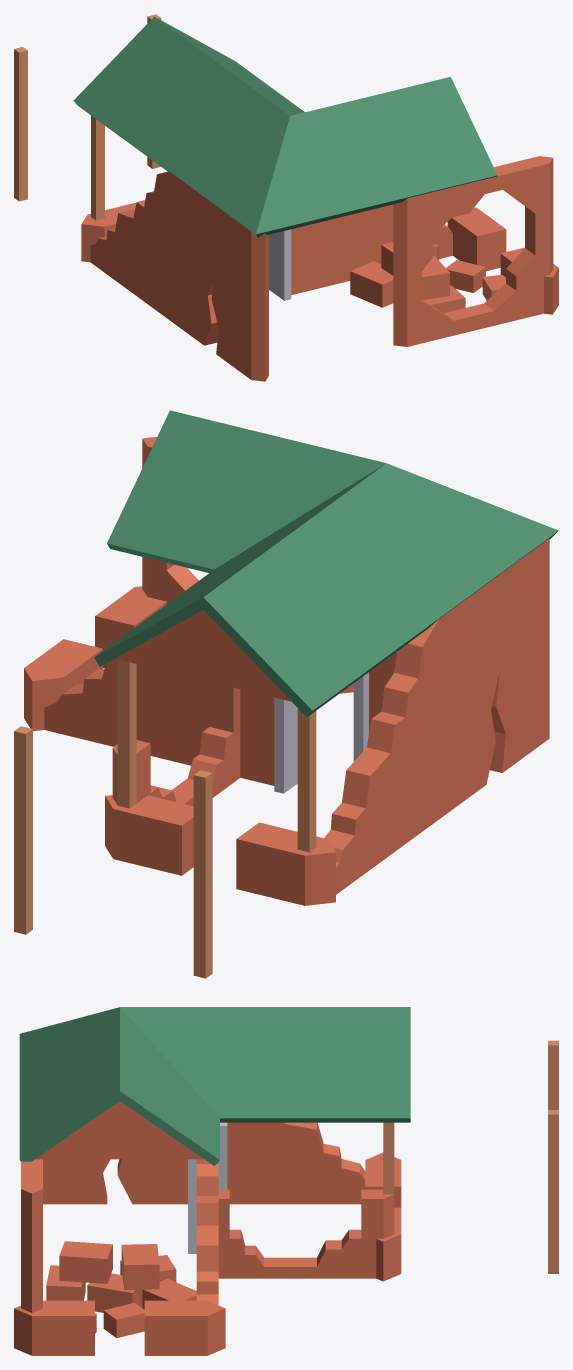
File: Casa6SemiRota.FBX
The picture shows the model from 3 angles, top to bottom: view 1: azimuth 30°, elevation 25°; view 2: azimuth 150°, elevation 25°; view 3: azimuth 270°, elevation 25°; orthographic projection. The views are drawn at different scales.
Parts seen in each view (by area): view 1: roof_187; view 2: roof_187; view 3: roof_187.
Part boxes in pixels (x1=…): roof_187: x1=14, y1=14, x2=558, y2=381; roof_187: x1=14, y1=410, x2=558, y2=978; roof_187: x1=14, y1=1007, x2=558, y2=1355.
Size of the model in its own units: 2205 by 1443 by 3103.
